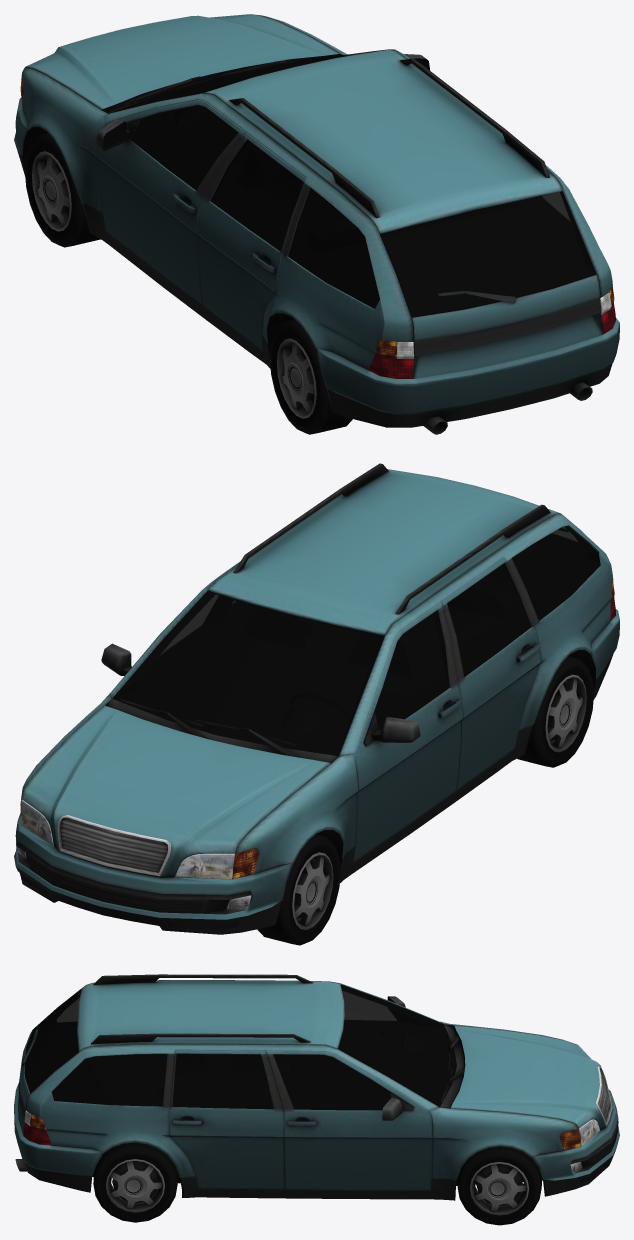
Rendered from c_wagon.glb.
3 renders of one model, top to bottom at view 1: azimuth 30°, elevation 25°; view 2: azimuth 150°, elevation 25°; view 3: azimuth 270°, elevation 25°, orthographic. The views are drawn at different scales.
Parts seen in each view (by area): view 1: body|Body_8, body|glass, body|Wheel_7, body|Optics_8; view 2: body|Body_8, body|glass, body|Wheel_7, body|Optics_8; view 3: body|Body_8, body|glass, body|Wheel_7, body|Optics_8.
Part boxes in pixels (x1,y1,x2,y2): body|Body_8: [14, 14, 619, 434]; body|glass: [109, 49, 596, 317]; body|Wheel_7: [25, 133, 352, 434]; body|Optics_8: [20, 75, 615, 378]; body|Body_8: [14, 463, 619, 934]; body|glass: [112, 526, 600, 756]; body|Wheel_7: [257, 656, 593, 945]; body|Optics_8: [16, 581, 616, 910]; body|Body_8: [14, 974, 619, 1200]; body|glass: [24, 984, 456, 1110]; body|Wheel_7: [93, 1142, 542, 1225]; body|Optics_8: [23, 1110, 600, 1173].
Size of the model in its own units: 1.95 by 1.38 by 4.38.
Materials: 4 (3 with a texture image).
